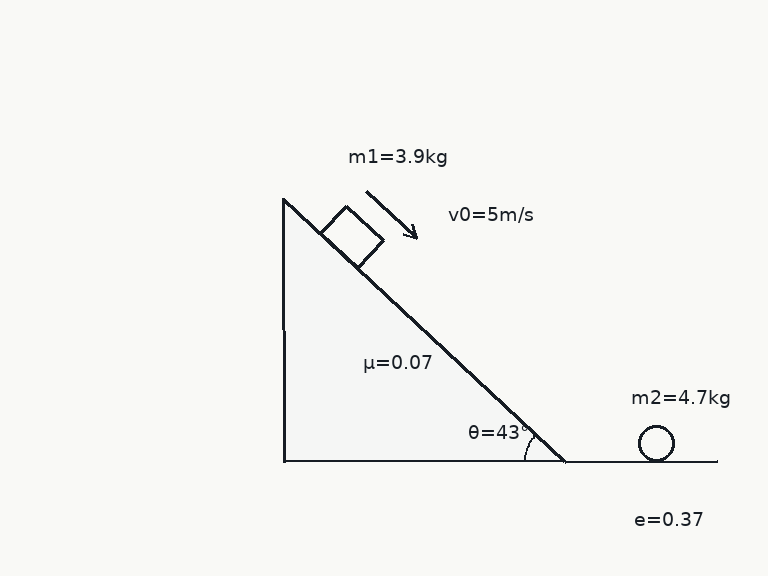ball: (636, 423, 676, 463)
block: (318, 203, 385, 270)
ramp: (281, 196, 567, 463)
